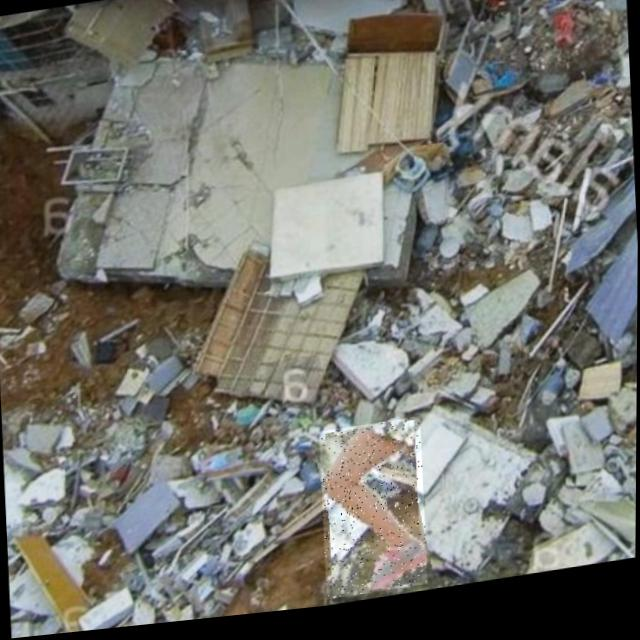Person in Rubble: (319, 425, 430, 608)
